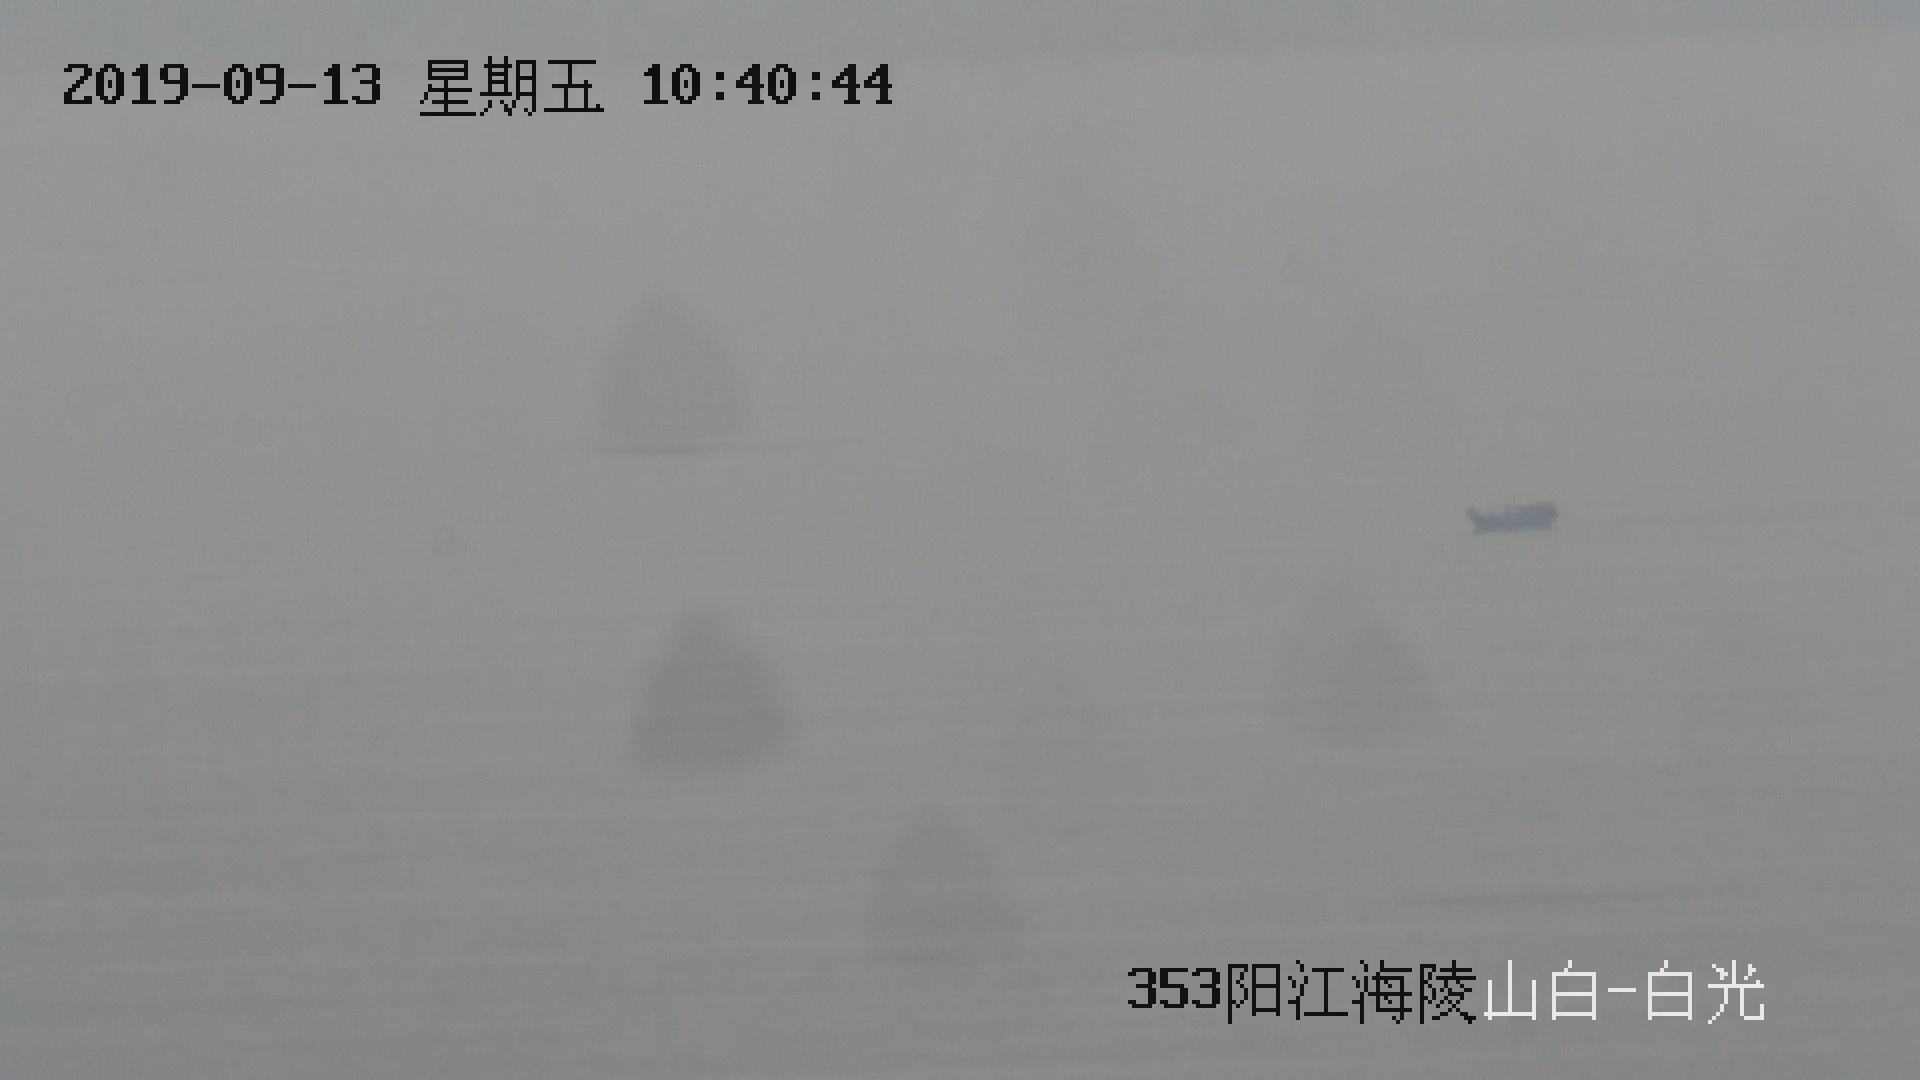ship: (1466, 504, 1559, 534)
